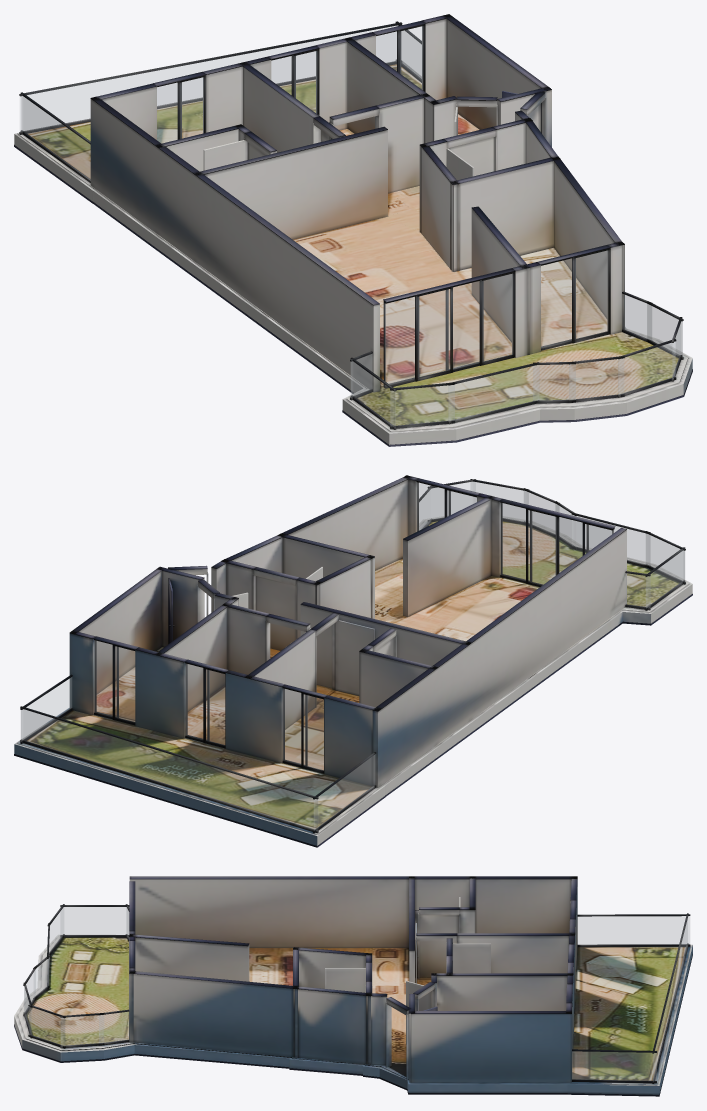
3 renders of one model, top to bottom at view 1: azimuth 30°, elevation 25°; view 2: azimuth 150°, elevation 25°; view 3: azimuth 270°, elevation 25°, orthographic. The views are drawn at different scales.
Parts seen in each view (by area): view 1: plan, glass3_m, railg0_m, glass4_m, railg9_m, glass0_m, railg2_m, railg10_m, railg6_m, railg7_m, glass2_m, glass1_m (+6 smaller); view 2: plan, railg0_m, glass3_m, glass2_m, glass0_m, glass1_m, railg2_m, glass4_m, railg1_m, railg9_m, railg11_m, railg10_m (+4 smaller); view 3: plan, railg2_m, railg1_m, railg11_m, railg4_m, railg5_m, railg0_m, railg3_m, railg8_m, railg10_m.
Boxes of the visible parts, box(x1,y1,x2,y2) form: plan: box(14, 14, 692, 446); glass3_m: box(385, 274, 512, 385); railg0_m: box(20, 25, 397, 131); glass4_m: box(541, 250, 607, 347); railg9_m: box(448, 365, 538, 420); glass0_m: box(157, 77, 203, 143); railg2_m: box(22, 96, 90, 179); railg10_m: box(390, 385, 454, 426); railg6_m: box(618, 342, 675, 394); railg7_m: box(569, 358, 623, 399); glass2_m: box(376, 26, 422, 89); glass1_m: box(271, 51, 316, 113); plan: box(14, 475, 692, 847); railg0_m: box(21, 709, 317, 830); glass3_m: box(501, 503, 611, 584); glass2_m: box(94, 640, 134, 722); glass0_m: box(283, 688, 323, 770); glass1_m: box(186, 664, 224, 744); railg2_m: box(314, 755, 374, 830); glass4_m: box(417, 482, 476, 530); railg1_m: box(21, 677, 71, 741); railg9_m: box(572, 515, 649, 565); railg11_m: box(646, 551, 684, 607); railg10_m: box(646, 534, 684, 581); plan: box(14, 876, 692, 1096); railg2_m: box(578, 916, 689, 944); railg1_m: box(572, 1051, 656, 1080); railg11_m: box(61, 907, 128, 934); railg4_m: box(61, 1015, 103, 1045); railg5_m: box(29, 1006, 64, 1045); railg0_m: box(653, 920, 687, 1081); railg3_m: box(99, 1012, 128, 1043); railg8_m: box(34, 959, 48, 997); railg10_m: box(49, 907, 63, 953).
Bounding box in the file's own units: 10.65 × 2.62 × 20.15.
2 materials, 1 textured.
